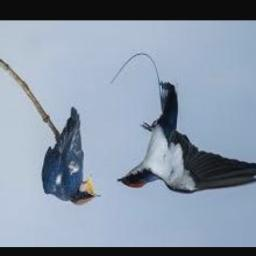Swallow: (116, 82, 256, 195), (42, 108, 100, 206)
